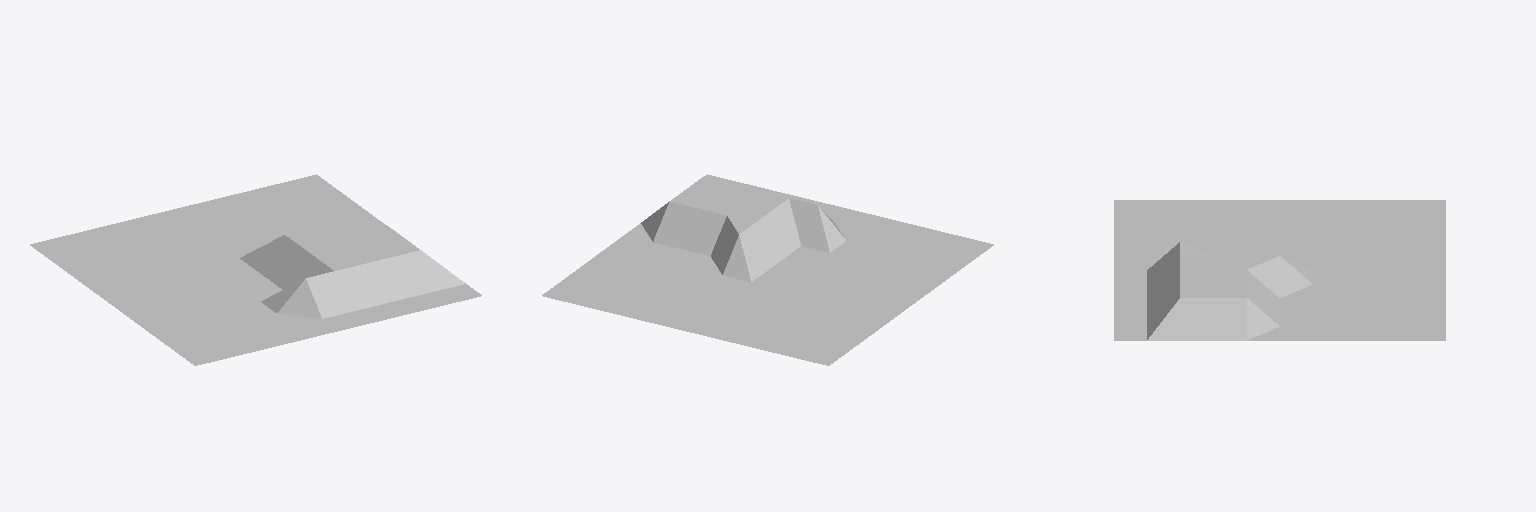
The model's file is ground.obj.
3 views of the same model, side by side, from view 1: azimuth 30°, elevation 25°; view 2: azimuth 150°, elevation 25°; view 3: azimuth 270°, elevation 25° (orthographic).
Visible parts, largest first — view 1: pPlane1; view 2: pPlane1; view 3: pPlane1.
Boxes of the visible parts, box(x1,y1,x2,y2) form: pPlane1: box(30, 174, 481, 365); pPlane1: box(542, 174, 993, 365); pPlane1: box(1114, 200, 1445, 340).
Size of the model in its own units: 7.31 by 0.6958 by 7.31.